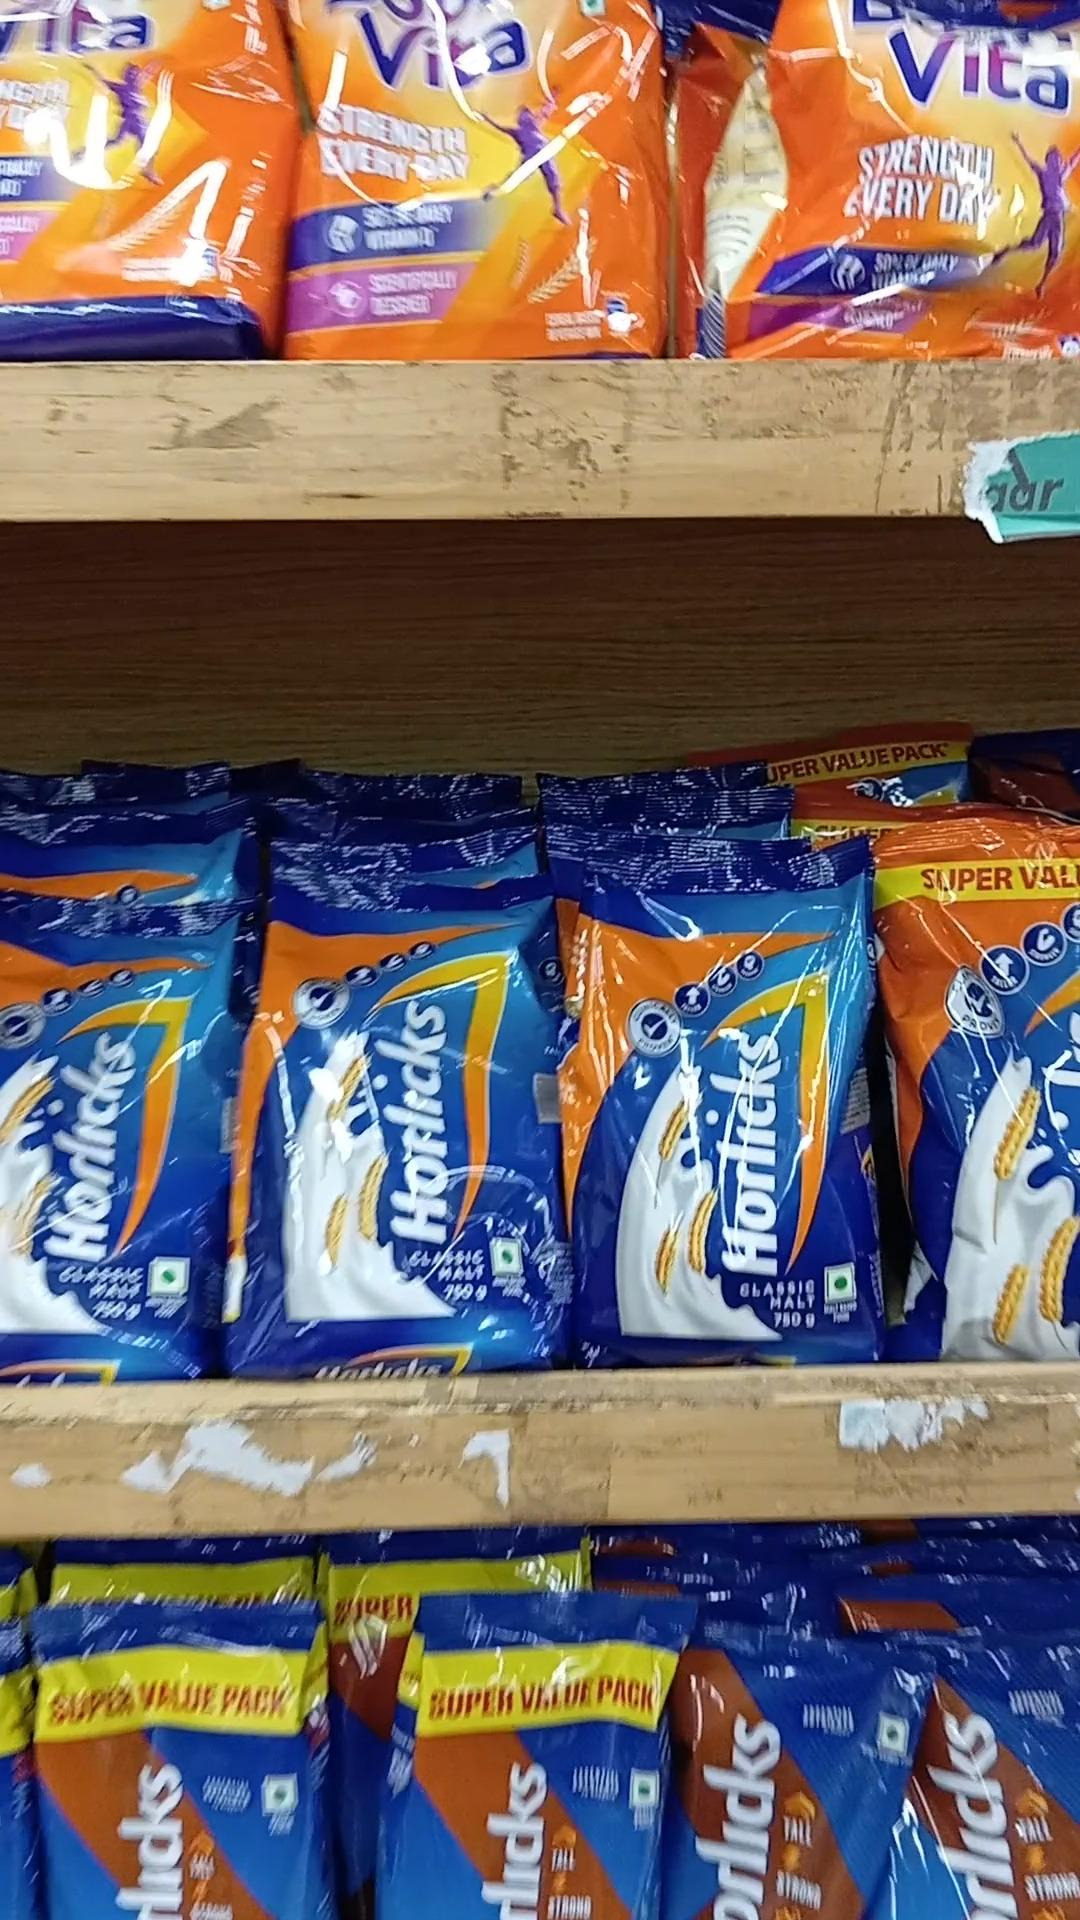HORLICK_CLASSIC_MALT_750_G_POUCH: (566, 825, 873, 1361), (245, 884, 551, 1367), (0, 872, 228, 1379)
